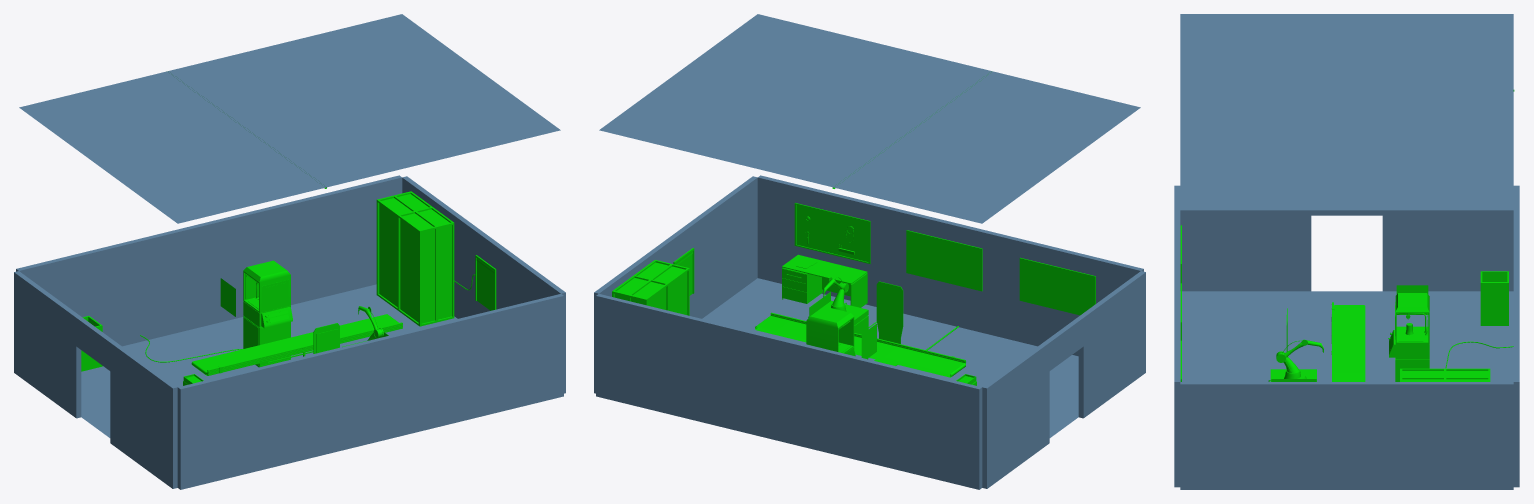
The model's file is LV2- Taller UVs.fbx.
The picture shows the model from 3 angles, left to right: view 1: azimuth 30°, elevation 25°; view 2: azimuth 150°, elevation 25°; view 3: azimuth 270°, elevation 25°; orthographic projection. The views are drawn at different scales.
Parts seen in each view (by area): view 1: ptaller1, ptaller6, ptaller7, ptaller8, Discos, ptaller4, ptaller3, ptaller5, pCube9, pCylinder41, ptaller2, pCube5 (+1 smaller); view 2: ptaller1, ptaller7, ptaller6, ptaller8, ptaller5, ptaller3, ptaller4, pCube38, pCube28, pCube39, Discos, pCylinder41 (+5 smaller); view 3: ptaller1, ptaller5, ptaller8, ptaller4, ptaller3, pCylinder41, ptaller7, ptaller6, pCube9, pCube44, Discos, ptaller2.
Part boxes in pixels (x1,y1,x2,y2): ptaller1: (19,14,560,223); ptaller6: (177,294,563,489); ptaller7: (16,175,402,346); ptaller8: (81,284,457,437); Discos: (376,191,454,326); ptaller4: (110,341,177,488); ptaller3: (14,271,81,418); ptaller5: (402,176,565,393); pCube9: (243,260,290,367); pCylinder41: (191,314,398,375); ptaller2: (76,316,114,370); pCube5: (207,322,402,375); ptaller1: (599,14,1140,223); ptaller7: (596,294,982,489); ptaller6: (757,175,1143,356); ptaller8: (702,278,1078,437); ptaller5: (594,176,757,393); ptaller3: (982,341,1049,488); ptaller4: (1078,271,1145,418); pCube38: (906,230,982,291); pCube28: (794,203,870,263); pCube39: (1019,257,1095,315); Discos: (612,260,689,315); pCylinder41: (755,315,965,377); ptaller1: (1180,14,1513,210); ptaller5: (1180,382,1513,489); ptaller8: (1180,291,1513,381); ptaller4: (1180,210,1311,291); ptaller3: (1382,210,1513,291); pCylinder41: (1334,305,1364,381); ptaller7: (1513,185,1519,487); ptaller6: (1174,185,1180,487); pCube9: (1395,293,1429,381); pCube44: (1480,271,1508,325); Discos: (1400,368,1490,381); ptaller2: (1311,210,1382,215).
Bounding box in the file's own units: 144 × 92.72 × 104.
